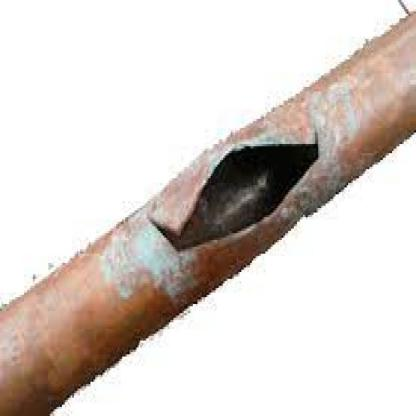burst: (133, 119, 335, 272)
